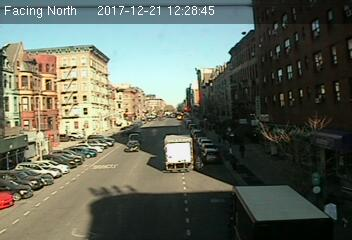car: (203, 149, 222, 164), (125, 140, 141, 152)
truck: (164, 133, 196, 171)
ups: (229, 184, 332, 240)
